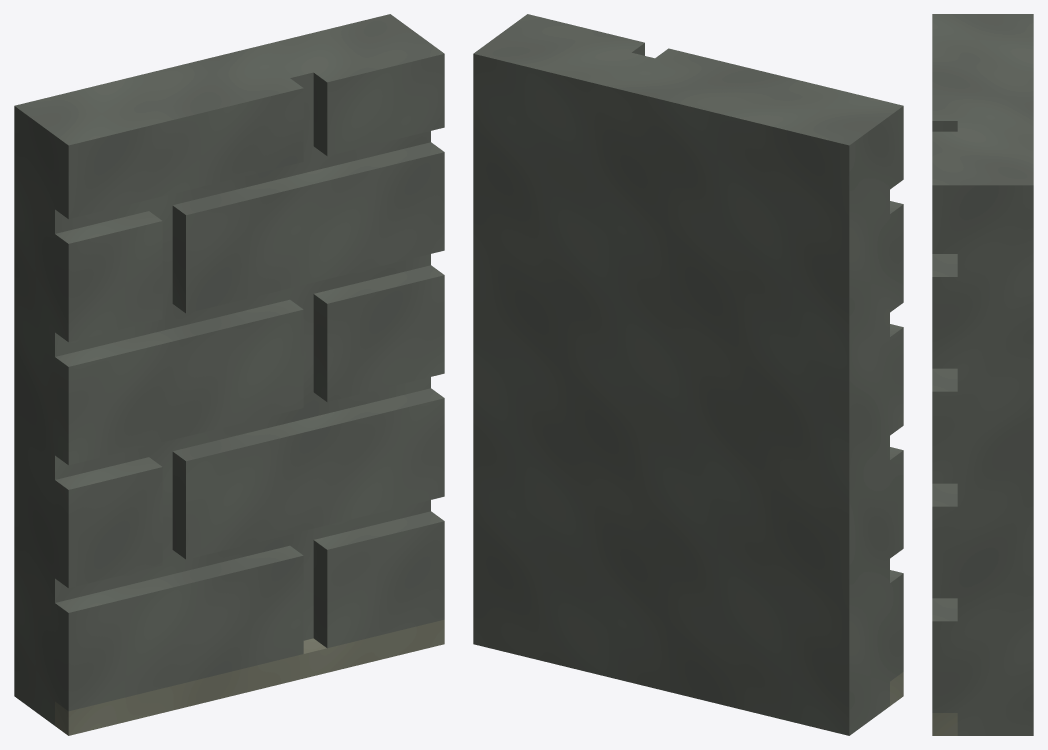
Rendered from WALL_A.glb.
The picture shows the model from 3 angles, left to right: view 1: azimuth 30°, elevation 25°; view 2: azimuth 150°, elevation 25°; view 3: azimuth 270°, elevation 25°; orthographic projection. The views are drawn at different scales.
Visible parts, largest first — view 1: WALL_A; view 2: WALL_A; view 3: WALL_A.
Boxes of the visible parts, <box> form: WALL_A: <box>14,14,444,735</box>; WALL_A: <box>473,14,903,735</box>; WALL_A: <box>932,14,1033,735</box>.
Bounding box in the file's own units: 2 × 3 × 0.5.
2 materials, 2 textured.
